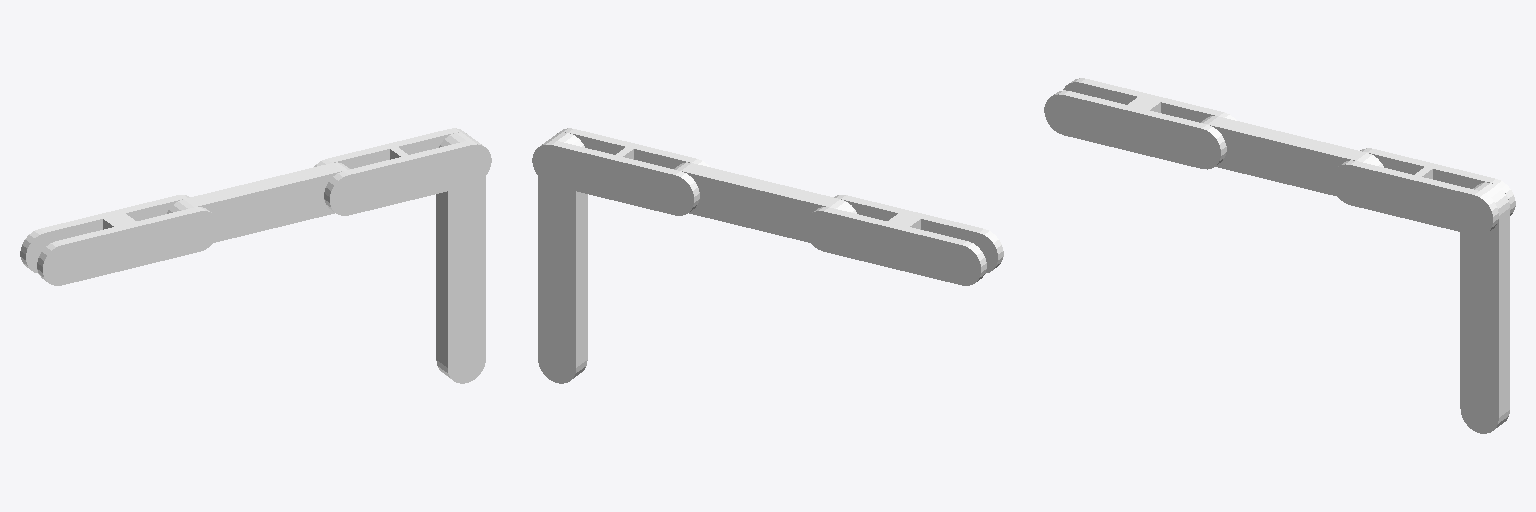
robot.urdf — ARMvertical:
<?xml version="1.0" encoding="utf-8"?>
<!-- This URDF was automatically created by SolidWorks to URDF Exporter! Originally created by [author] ([email redacted]) 
     Commit Version: 1.6.0-4-g7f85cfe  Build Version: 1.6.7995.38578
     For more information, please see http://wiki.ros.org/sw_urdf_exporter -->
<robot
  name="ARMvertical">
  <link
    name="base_link">
    <inertial>
      <origin
        xyz="-6.61496605635191E-20 0.25 -5.85635023437615E-19"
        rpy="0 0 0" />
      <mass
        value="2.89269908169872" />
      <inertia
        ixx="0.0816417751742525"
        ixy="-9.59970673554874E-20"
        ixz="1.12937726300573E-20"
        iyy="0.0029314159014156"
        iyz="-5.29395592033938E-20"
        izz="0.083367899791627" />
    </inertial>
    <visual>
      <origin
        xyz="0 0 0"
        rpy="0 0 0" />
      <geometry>
        <mesh
          filename="package://ARMvertical/meshes/base_link.STL" />
      </geometry>
      <material
        name="">
        <color
          rgba="1 1 1 1" />
      </material>
    </visual>
    <collision>
      <origin
        xyz="0 0 0"
        rpy="0 0 0" />
      <geometry>
        <mesh
          filename="package://ARMvertical/meshes/base_link.STL" />
      </geometry>
    </collision>
  </link>
  <link
    name="link1">
    <inertial>
      <origin
        xyz="0.16 0 7.8450145613333E-18"
        rpy="0 0 0" />
      <mass
        value="2.09269908169872" />
      <inertia
        ixx="0.00458895642020566"
        ixy="-2.22755641865369E-18"
        ixz="8.98870975313248E-19"
        iyy="0.0295487195783596"
        iyz="-3.12210884956261E-19"
        izz="0.0282839703436107" />
    </inertial>
    <visual>
      <origin
        xyz="0 0 0"
        rpy="0 0 0" />
      <geometry>
        <mesh
          filename="package://ARMvertical/meshes/link1.STL" />
      </geometry>
      <material
        name="">
        <color
          rgba="1 1 1 1" />
      </material>
    </visual>
    <collision>
      <origin
        xyz="0 0 0"
        rpy="0 0 0" />
      <geometry>
        <mesh
          filename="package://ARMvertical/meshes/link1.STL" />
      </geometry>
    </collision>
  </link>
  <joint
    name="joint1"
    type="revolute">
    <origin
      xyz="0 0 0.5"
      rpy="-1.5708 0 3.1416" />
    <parent
      link="base_link" />
    <child
      link="link1" />
    <axis
      xyz="0 0 1" />
    <limit
      lower="-3.14"
      upper="3.14"
      effort="23.7"
      velocity="30" />
  </joint>
  <link
    name="link2">
    <inertial>
      <origin
        xyz="0.1925 2.73852122139374E-18 0"
        rpy="0 0 0" />
      <mass
        value="2.31769908169872" />
      <inertia
        ixx="0.00233245756808227"
        ixy="-1.10111797951753E-18"
        ixz="-6.1081025868386E-18"
        iyy="0.0436330896149884"
        iyz="-1.57154690926001E-20"
        izz="0.042266339997614" />
    </inertial>
    <visual>
      <origin
        xyz="0 0 0"
        rpy="0 0 0" />
      <geometry>
        <mesh
          filename="package://ARMvertical/meshes/link2.STL" />
      </geometry>
      <material
        name="">
        <color
          rgba="1 1 1 1" />
      </material>
    </visual>
    <collision>
      <origin
        xyz="0 0 0"
        rpy="0 0 0" />
      <geometry>
        <mesh
          filename="package://ARMvertical/meshes/link2.STL" />
      </geometry>
    </collision>
  </link>
  <joint
    name="joint2"
    type="revolute">
    <origin
      xyz="0.32 0 0"
      rpy="-1.5708 0 0" />
    <parent
      link="link1" />
    <child
      link="link2" />
    <axis
      xyz="0 1 0" />
    <limit
      lower="-3.14"
      upper="3.14"
      effort="23.7"
      velocity="30" />
  </joint>
  <link
    name="link3">
    <inertial>
      <origin
        xyz="-0.179 5.55111512312578E-17 -2.9986527615642E-17"
        rpy="0 0 0" />
      <mass
        value="2.47269908169872" />
      <inertia
        ixx="0.00522228975353901"
        ixy="-4.5812344192102E-19"
        ixz="-2.91167575618666E-18"
        iyy="0.0382538543635812"
        iyz="5.09897919989501E-19"
        izz="0.0369891051288322" />
    </inertial>
    <visual>
      <origin
        xyz="0 0 0"
        rpy="0 0 0" />
      <geometry>
        <mesh
          filename="package://ARMvertical/meshes/link3.STL" />
      </geometry>
      <material
        name="">
        <color
          rgba="1 1 1 1" />
      </material>
    </visual>
    <collision>
      <origin
        xyz="0 0 0"
        rpy="0 0 0" />
      <geometry>
        <mesh
          filename="package://ARMvertical/meshes/link3.STL" />
      </geometry>
    </collision>
  </link>
  <joint
    name="joint3"
    type="revolute">
    <origin
      xyz="0.385 0 0"
      rpy="-1.5708 0 3.1416" />
    <parent
      link="link2" />
    <child
      link="link3" />
    <axis
      xyz="0 0 1" />
    <limit
      lower="-3.14"
      upper="3.14"
      effort="23.7"
      velocity="30" />
  </joint>
</robot>

--- What the picture shows (computed from the rendered views, not written in the file) ---
Views: 3 orthographic renders of the robot side by side, from view 1: azimuth 30°, elevation 25°; view 2: azimuth 150°, elevation 25°; view 3: azimuth 330°, elevation 25°.
Model ARMvertical with 4 links and 3 joints (3 revolute), rooted at base_link, posed all joints at 0.
Links seen in each view (by area): view 1: link3, base_link, link1, link2; view 2: link3, base_link, link1, link2; view 3: base_link, link3, link1, link2.
Boxes of the visible links, x1=… form: link3: x1=20, y1=195, x2=218, y2=285; base_link: x1=436, y1=132, x2=485, y2=383; link1: x1=314, y1=128, x2=491, y2=215; link2: x1=167, y1=162, x2=349, y2=242; link3: x1=805, y1=195, x2=1003, y2=285; base_link: x1=538, y1=132, x2=587, y2=383; link1: x1=532, y1=128, x2=709, y2=215; link2: x1=674, y1=162, x2=856, y2=242; base_link: x1=1460, y1=182, x2=1509, y2=433; link3: x1=1044, y1=78, x2=1236, y2=169; link1: x1=1331, y1=148, x2=1515, y2=235; link2: x1=1200, y1=116, x2=1383, y2=195.
Size in the robot's own frame: 1.16 by 0.1 by 0.6 metres.
Meshes: 4 distinct files referenced, 4 mesh visuals loaded (4 binary STL).